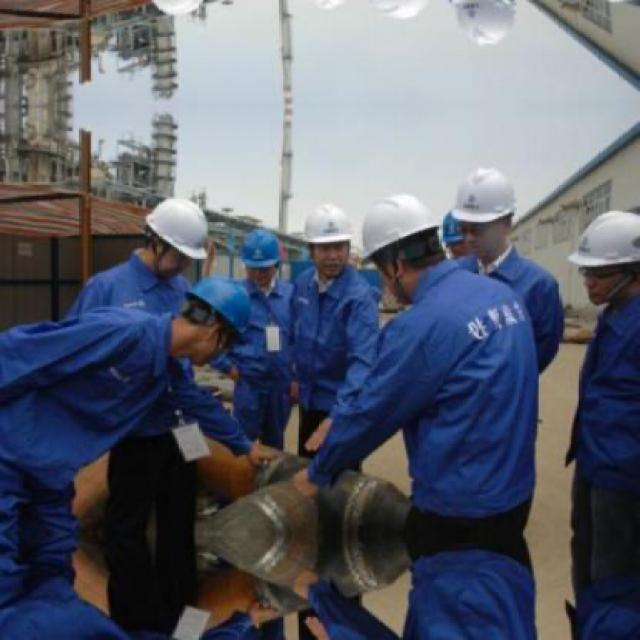helmet: (365, 185, 443, 292), (449, 156, 520, 262), (171, 276, 255, 359), (568, 205, 638, 302), (136, 198, 207, 282), (300, 197, 354, 276), (448, 0, 520, 59), (242, 228, 284, 288), (365, 0, 445, 29), (134, 0, 206, 17), (300, 0, 355, 17)
